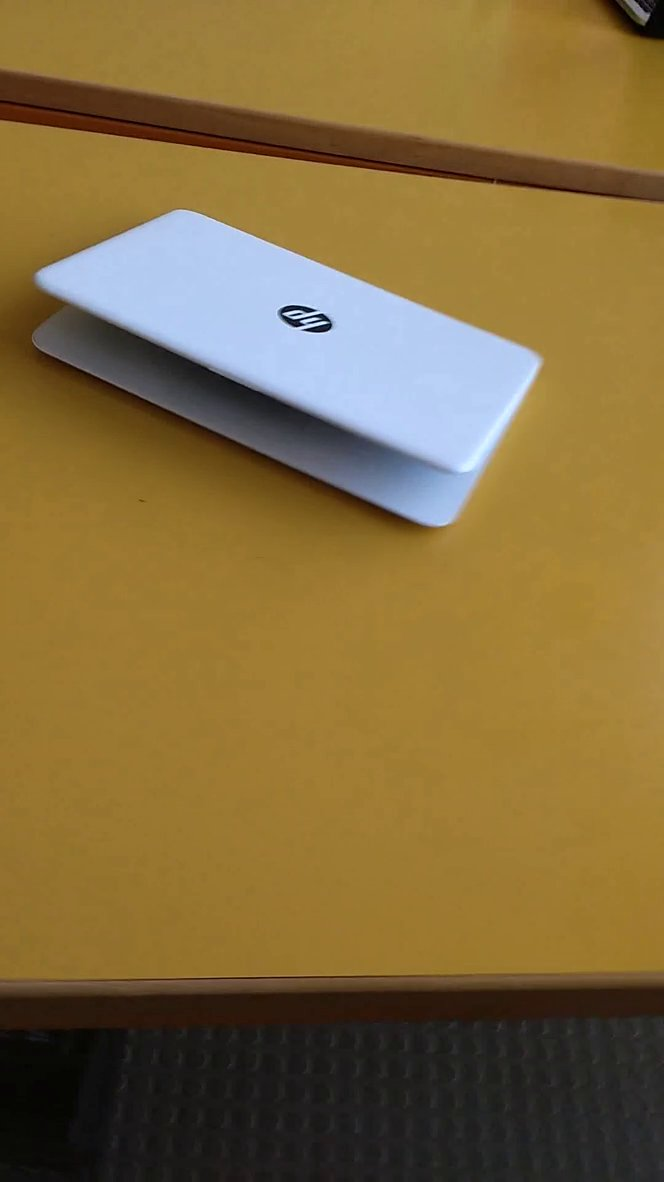laptop: (20, 180, 574, 578)
